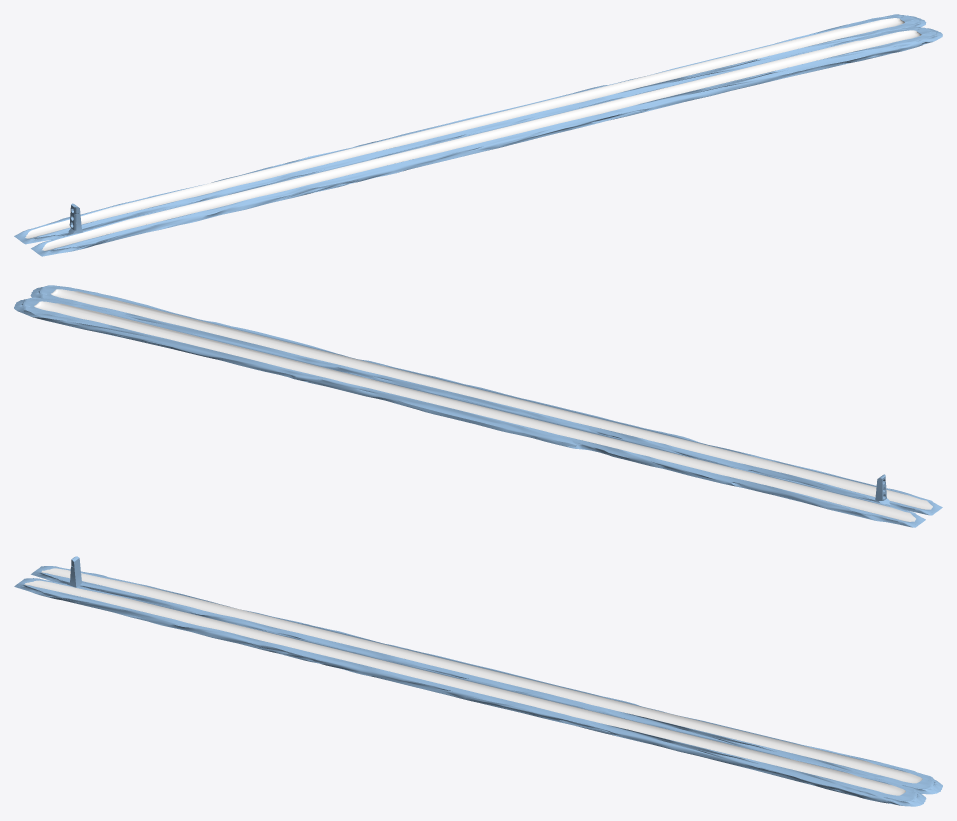
File: Extras_RaceTrack_01.fbx
3 renders of one model, top to bottom at view 1: azimuth 30°, elevation 25°; view 2: azimuth 150°, elevation 25°; view 3: azimuth 330°, elevation 25°, orthographic.
Visible parts, largest first — view 1: Asset_RaceTrack; view 2: Asset_RaceTrack; view 3: Asset_RaceTrack.
Part boxes in pixels (x1,y1,x2,y2): Asset_RaceTrack: (14, 14, 942, 256); Asset_RaceTrack: (14, 285, 942, 527); Asset_RaceTrack: (14, 556, 942, 806).
Size of the model in its own units: 8973 by 284 by 661.
